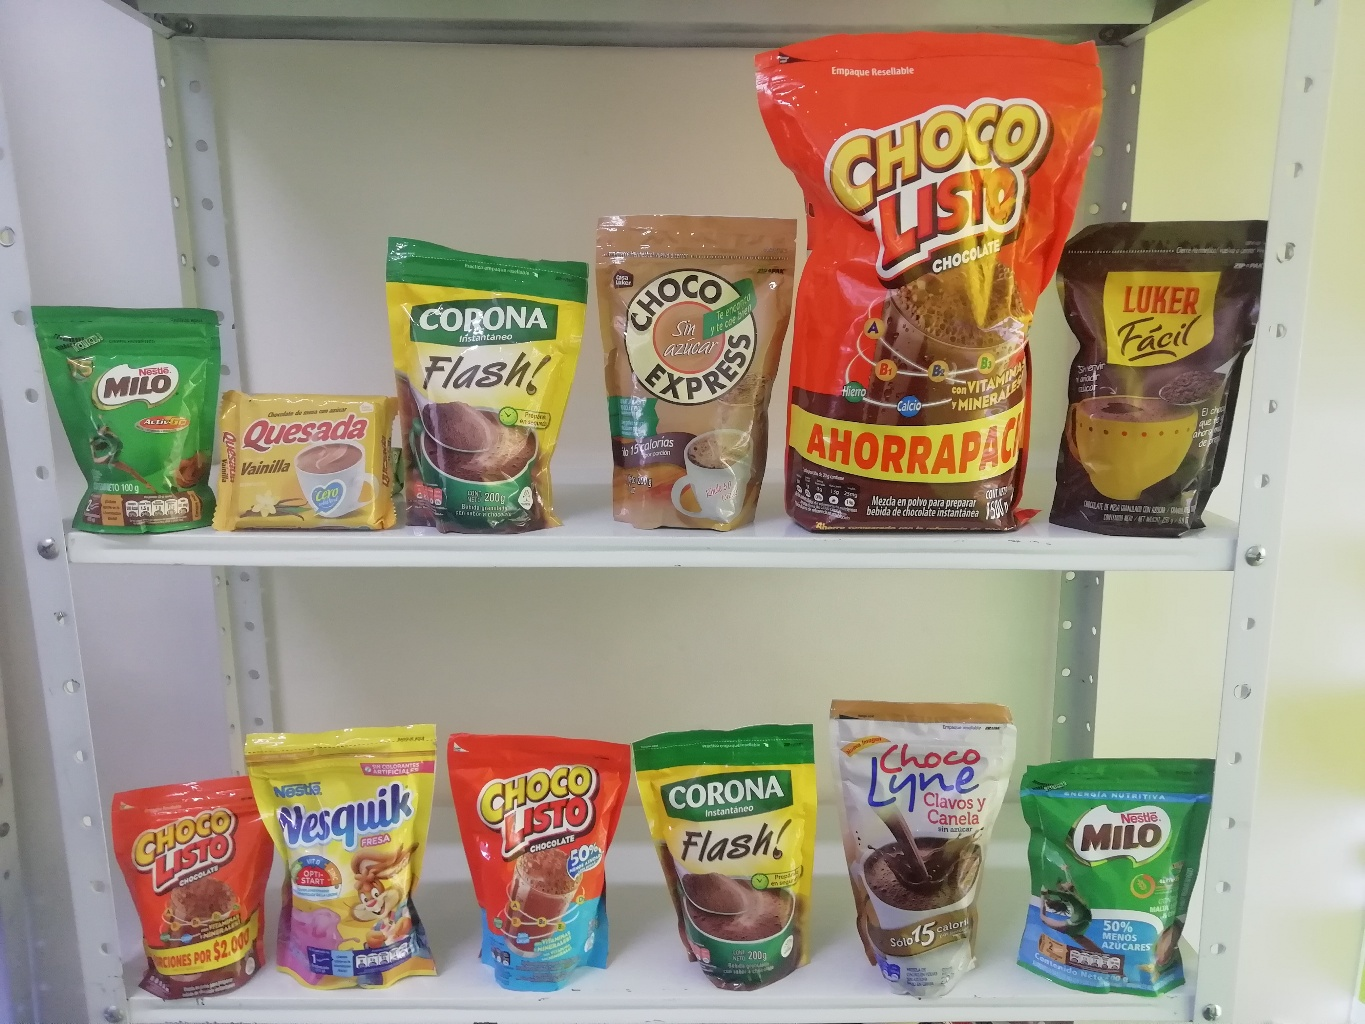COL0170103DYP1,500: (752, 35, 1100, 534)
COL0170104DYP20000: (445, 726, 631, 994)
COL0170203DYP10000: (25, 303, 223, 535)
COL0170205DYP20000: (1024, 754, 1223, 998)
COL0170305DYP20000: (243, 726, 449, 989)
